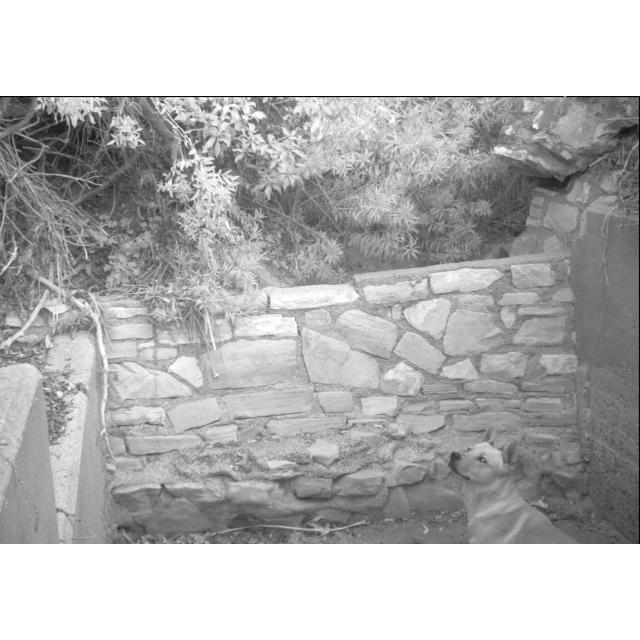animals: (446, 438, 586, 544)
